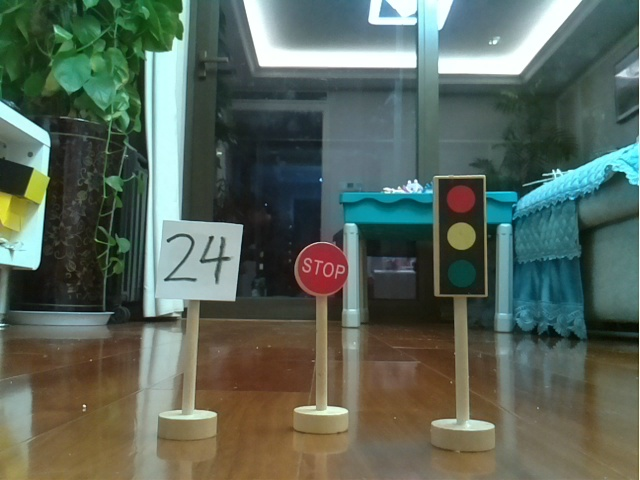Red Traffic Light: (426, 168, 510, 458)
Speed Limit 24: (156, 213, 247, 444)
Stop Sign: (287, 238, 361, 438)
